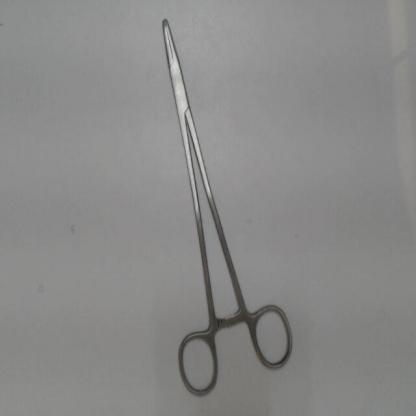8 Mayo Needle Holder: (152, 4, 302, 408)
